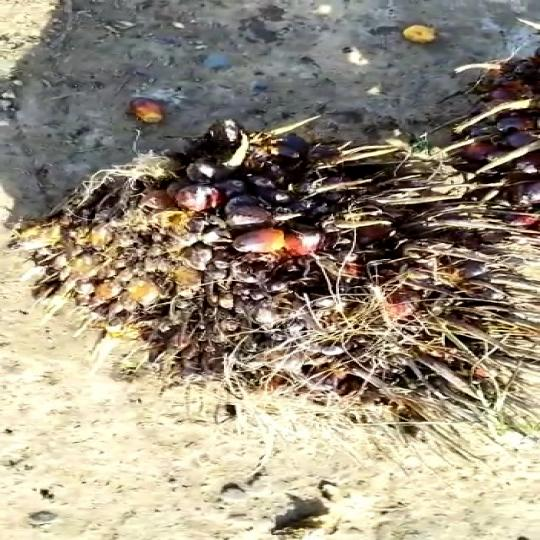terlalu masak: (0, 97, 540, 466)
